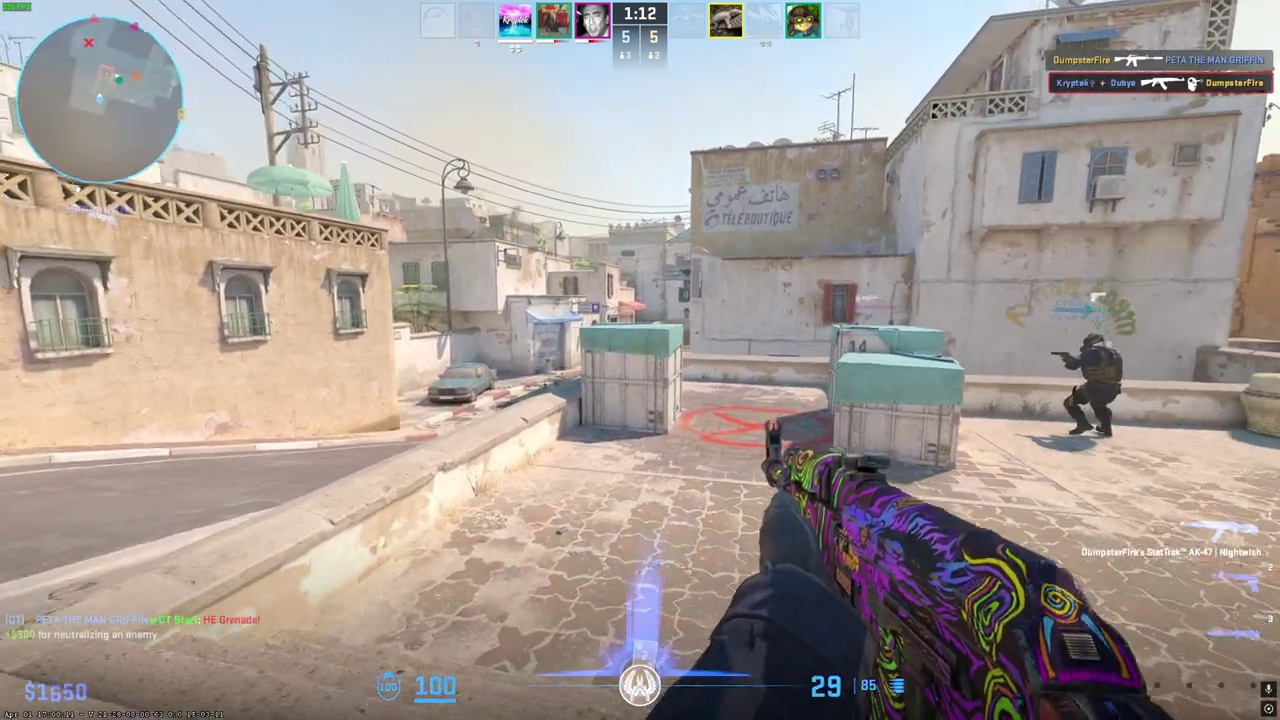CT: (1063, 333, 1121, 437)
